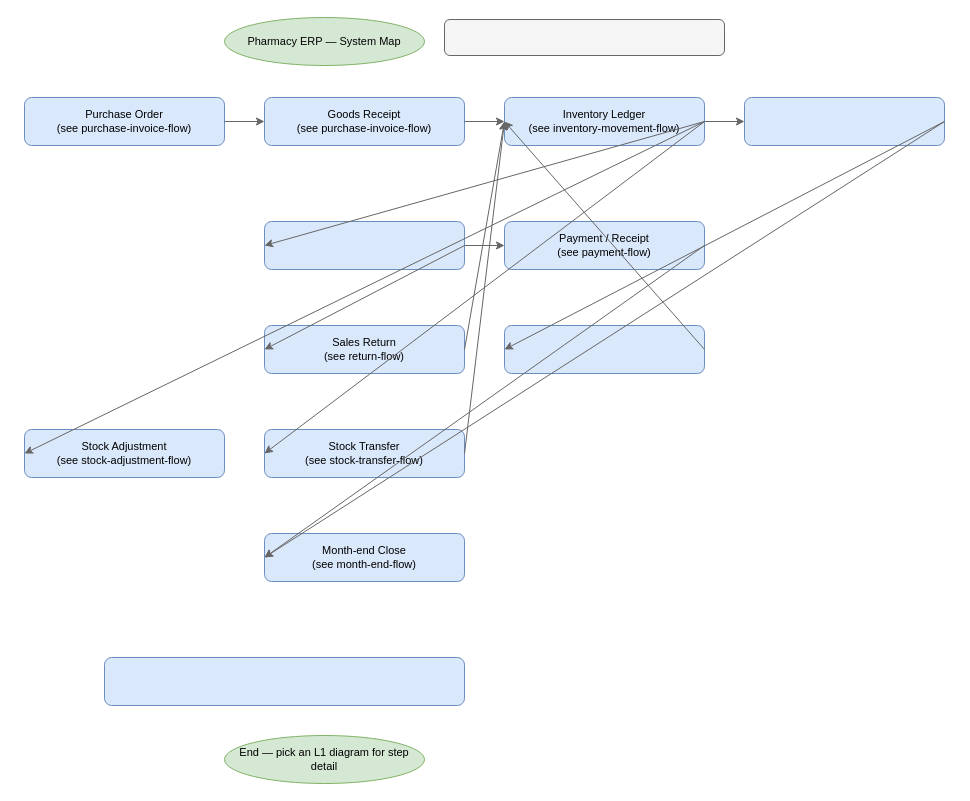
Some shapes in this 970 by 801 pixel diagram are drawn without their labels. The box of each missing label's shape, as (x1, y1, x2, y2) in pixels:
L0 overview — drill down to L1 flowcharts per module: (444, 18, 724, 56)
L2: cross-cutting-persistence-flow (UnitOfWork, Audit, Outbox): (104, 656, 464, 706)
Purchase Invoice (see purchase-invoice-flow): (744, 96, 944, 146)
Purchase Return (see return-flow): (504, 324, 704, 374)
Sales Invoice (see sales-invoice-flow): (264, 220, 464, 270)
